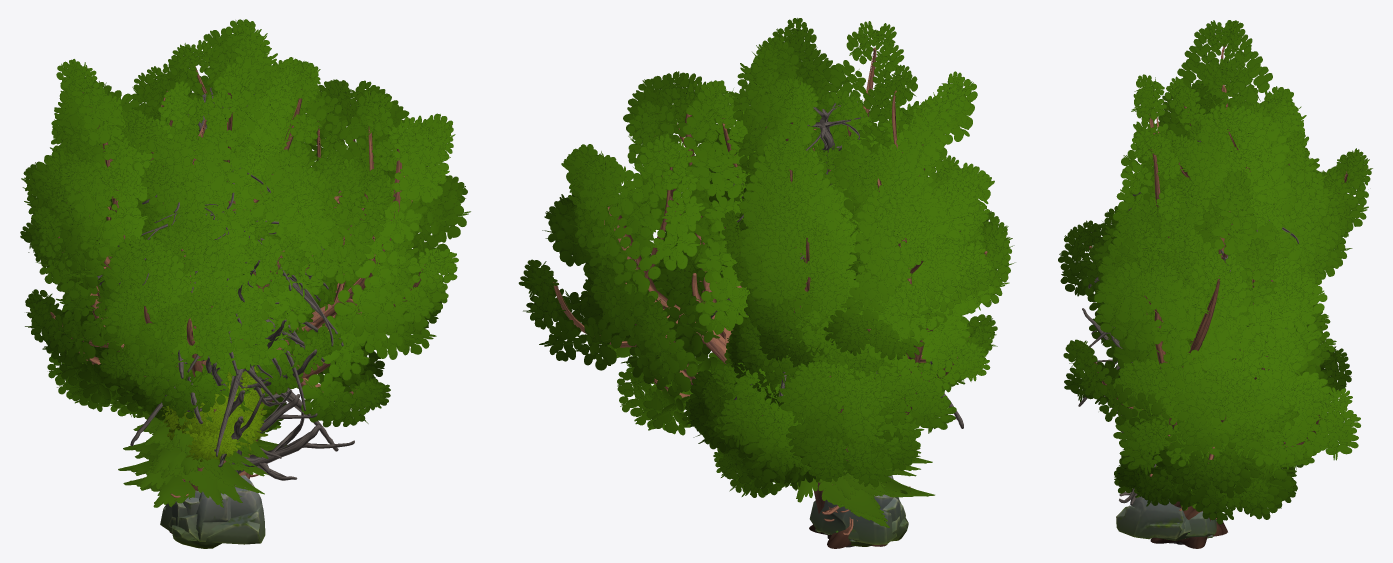
Rendered from natura.glb.
3 renders of one model, left to right at view 1: azimuth 30°, elevation 25°; view 2: azimuth 150°, elevation 25°; view 3: azimuth 270°, elevation 25°, orthographic. The views are drawn at different scales.
Parts seen in each view (by area): view 1: TwistedTree_2 (×2), TwistedTree_1 (×2), TwistedTree_3 (×2), TwistedTree_4 (×2), TwistedTree_5 (×2), Rock_Medium_3 (×2), DeadTree_2 (×2), Pine_2 (×2), Pine_4 (×2), DeadTree_4 (×2), Pine_5, Rock_Medium_1 (+5 smaller); view 2: TwistedTree_1 (×2), TwistedTree_2 (×2), TwistedTree_4 (×2), TwistedTree_3 (×2), TwistedTree_5 (×2), Pine_5 (×2), Rock_Medium_2, DeadTree_5, Pine_2; view 3: TwistedTree_1 (×2), TwistedTree_4 (×2), TwistedTree_2, TwistedTree_3 (×2), TwistedTree_5 (×2), Rock_Medium_3 (×2), Rock_Medium_2.
Part boxes in pixels (bbox=[...]): TwistedTree_2 (×2): bbox=[20, 59, 320, 490]; TwistedTree_1 (×2): bbox=[144, 60, 470, 533]; TwistedTree_3 (×2): bbox=[47, 92, 395, 432]; TwistedTree_4 (×2): bbox=[65, 19, 367, 436]; TwistedTree_5 (×2): bbox=[92, 103, 346, 318]; Rock_Medium_3 (×2): bbox=[172, 475, 265, 548]; DeadTree_2 (×2): bbox=[168, 260, 354, 480]; Pine_2 (×2): bbox=[123, 424, 272, 507]; Pine_4 (×2): bbox=[123, 372, 268, 497]; DeadTree_4 (×2): bbox=[187, 211, 343, 456]; Pine_5: bbox=[118, 416, 286, 502]; Rock_Medium_1: bbox=[168, 491, 231, 541]; TwistedTree_1 (×2): bbox=[518, 71, 887, 548]; TwistedTree_2 (×2): bbox=[721, 18, 1015, 443]; TwistedTree_4 (×2): bbox=[717, 36, 935, 538]; TwistedTree_3 (×2): bbox=[682, 118, 1012, 497]; TwistedTree_5 (×2): bbox=[709, 119, 928, 406]; Pine_5 (×2): bbox=[795, 455, 924, 519]; Rock_Medium_2: bbox=[809, 494, 896, 544]; DeadTree_5: bbox=[710, 103, 963, 428]; Pine_2: bbox=[790, 448, 934, 527]; TwistedTree_1 (×2): bbox=[1063, 170, 1360, 548]; TwistedTree_4 (×2): bbox=[1080, 83, 1372, 379]; TwistedTree_2: bbox=[1100, 20, 1319, 360]; TwistedTree_3 (×2): bbox=[1058, 167, 1352, 514]; TwistedTree_5 (×2): bbox=[1110, 164, 1350, 375]; Rock_Medium_3 (×2): bbox=[1116, 496, 1186, 539]; Rock_Medium_2: bbox=[1186, 511, 1216, 537].
Size of the model in its own units: 17.96 by 19.08 by 12.13.
Materials: 12 (12 with a texture image).
